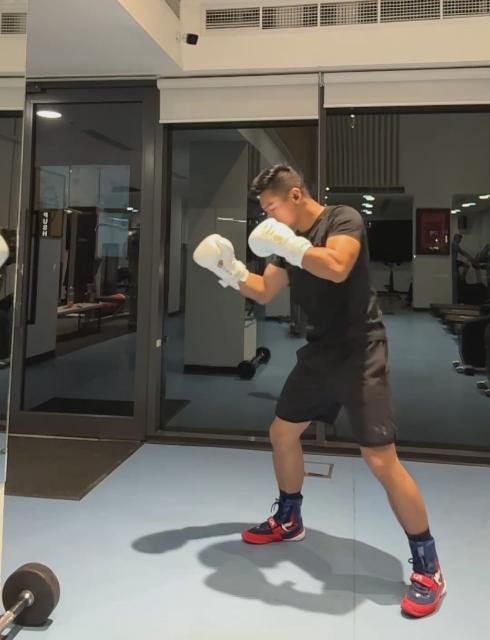punch: (194, 161, 448, 621)
